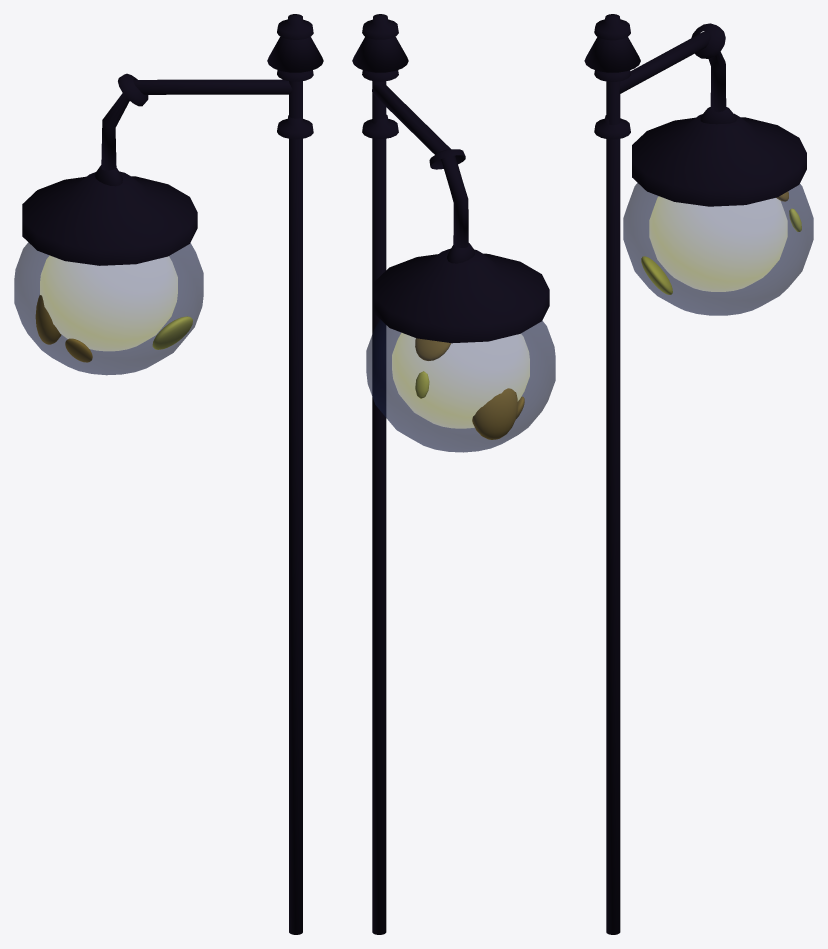
File: Standing_SlugLights.fbx
3 views of the same model, side by side, from view 1: azimuth 30°, elevation 25°; view 2: azimuth 150°, elevation 25°; view 3: azimuth 270°, elevation 25° (orthographic).
Visible parts, largest first — view 1: Sphere, Sphere.008, Cylinder.002, Sphere.001, Cylinder, Cone, Sphere.003, Sphere.011, Sphere.007, Sphere.012; view 2: Sphere, Sphere.008, Cylinder.002, Sphere.001, Cylinder, Sphere.007, Cone, Sphere.011, Sphere.012, Sphere.002; view 3: Sphere, Sphere.008, Cylinder.002, Sphere.001, Cylinder, Cone, Sphere.011, Sphere.009, Sphere.012, Sphere.003.
Boxes of the visible parts, x1,y1,x2,y2 form: Sphere: [14, 242, 203, 375]; Sphere.008: [22, 171, 197, 265]; Cylinder.002: [289, 81, 302, 934]; Sphere.001: [40, 255, 177, 351]; Cylinder: [101, 79, 292, 170]; Cone: [267, 36, 323, 72]; Sphere.003: [152, 316, 192, 349]; Sphere.011: [277, 14, 313, 39]; Sphere.007: [35, 295, 61, 344]; Sphere.012: [277, 115, 313, 139]; Sphere: [366, 319, 555, 452]; Sphere.008: [374, 248, 549, 343]; Cylinder.002: [372, 81, 386, 934]; Sphere.001: [392, 333, 529, 428]; Cylinder: [372, 84, 468, 247]; Sphere.007: [472, 388, 517, 439]; Cone: [352, 36, 408, 72]; Sphere.011: [362, 14, 398, 39]; Sphere.012: [362, 114, 398, 138]; Sphere.002: [415, 338, 451, 360]; Sphere: [623, 183, 813, 315]; Sphere.008: [632, 113, 806, 206]; Cylinder.002: [606, 81, 620, 934]; Sphere.001: [649, 196, 787, 291]; Cylinder: [619, 30, 726, 112]; Cone: [584, 37, 640, 72]; Sphere.011: [594, 14, 630, 40]; Sphere.009: [691, 23, 725, 58]; Sphere.012: [594, 115, 630, 139]; Sphere.003: [641, 256, 672, 294].
Size of the model in its own units: 747 by 2736 by 620.
